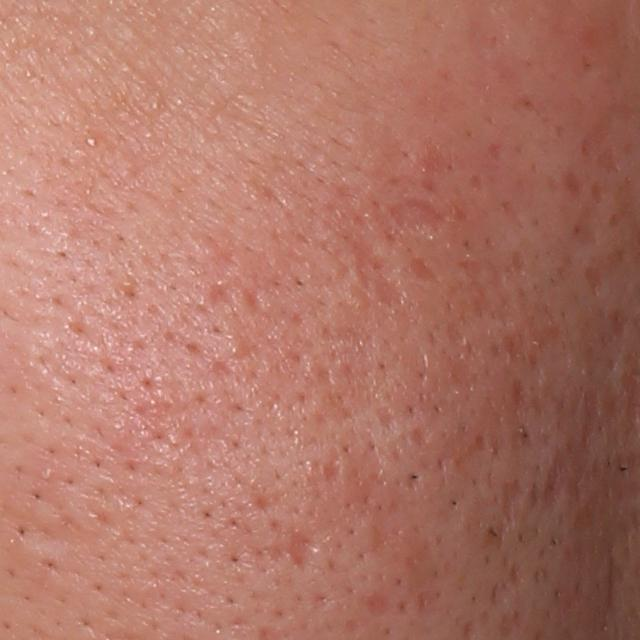atrophic_scar: (353, 237, 407, 306), (387, 197, 451, 233), (598, 553, 624, 609), (573, 199, 601, 250), (544, 452, 570, 505), (581, 386, 603, 445), (289, 532, 322, 570), (502, 478, 527, 520), (408, 258, 440, 286), (367, 586, 393, 615)
